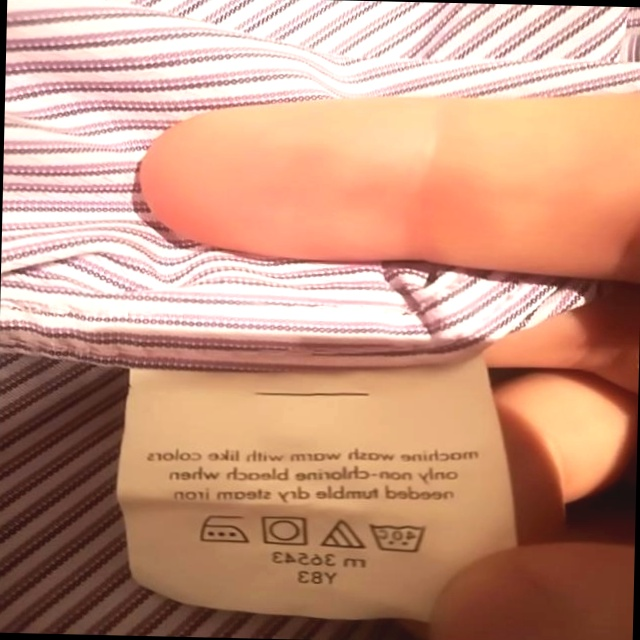40C: (366, 519, 428, 557)
iron_high: (193, 510, 249, 547)
non_chlorine_bleach: (319, 517, 366, 553)
tumble_dry_normal: (256, 515, 309, 549)
